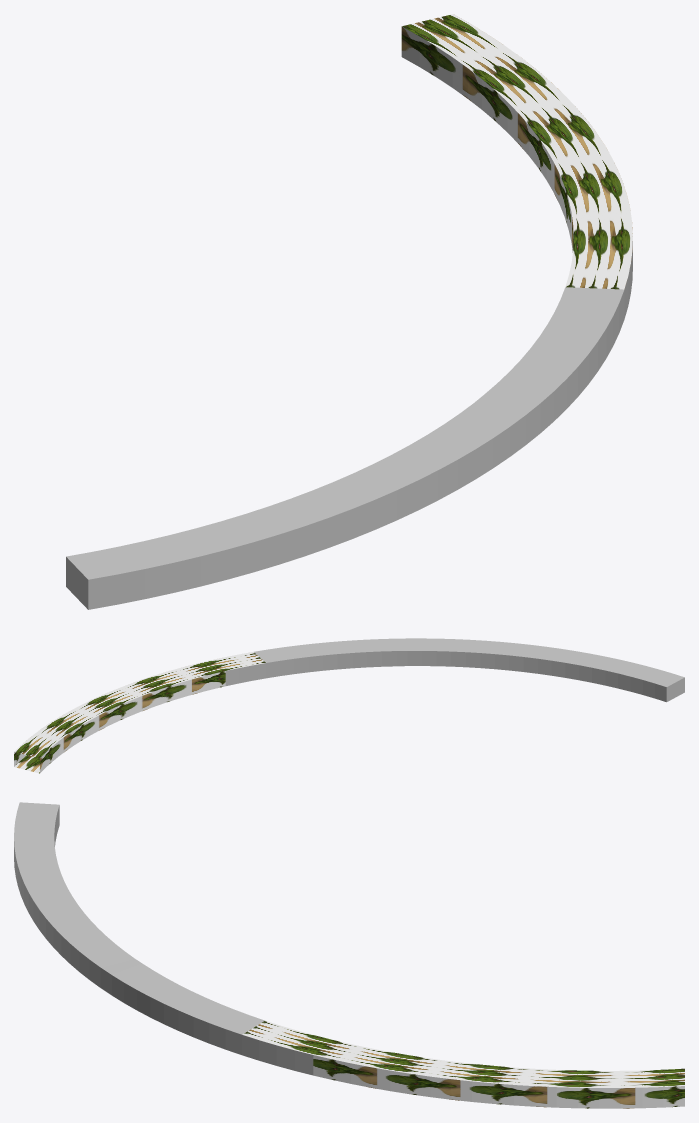
File: optical illusion tunnel.obj
3 views of the same model, one above another, from view 1: azimuth 30°, elevation 25°; view 2: azimuth 150°, elevation 25°; view 3: azimuth 270°, elevation 25° (orthographic). The views are drawn at different scales.
Parts seen in each view (by area): view 1: Cube; view 2: Cube; view 3: Cube.
Part boxes in pixels (bbox=[...]): Cube: bbox=[66, 14, 632, 609]; Cube: bbox=[14, 638, 684, 773]; Cube: bbox=[14, 802, 684, 1108].
Bounding box in the file's own units: 114 × 3.9 × 113.
